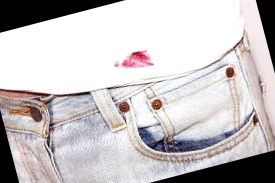lipstick: (112, 42, 160, 78)
